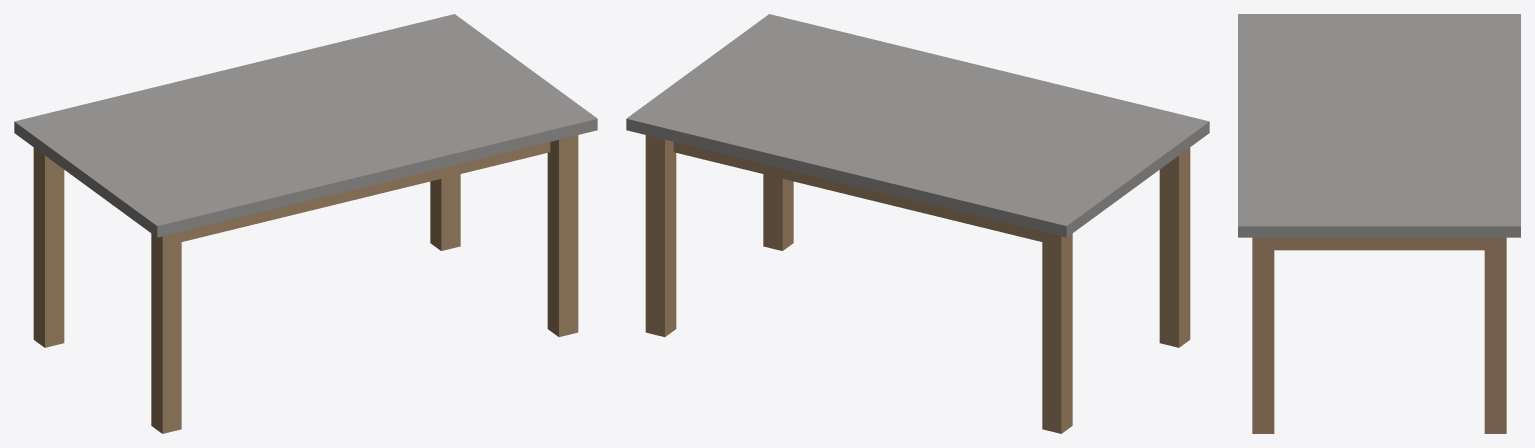
File: dining_table.glb
3 views of the same model, side by side, from view 1: azimuth 30°, elevation 25°; view 2: azimuth 150°, elevation 25°; view 3: azimuth 270°, elevation 25° (orthographic).
Bounding box in the file's own units: 1.6 × 0.75 × 0.9.
